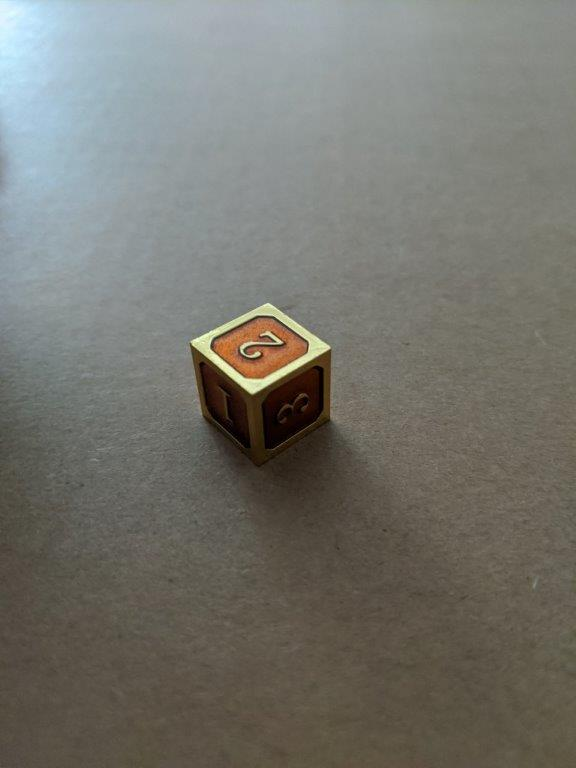d6-2: (188, 300, 336, 468)
